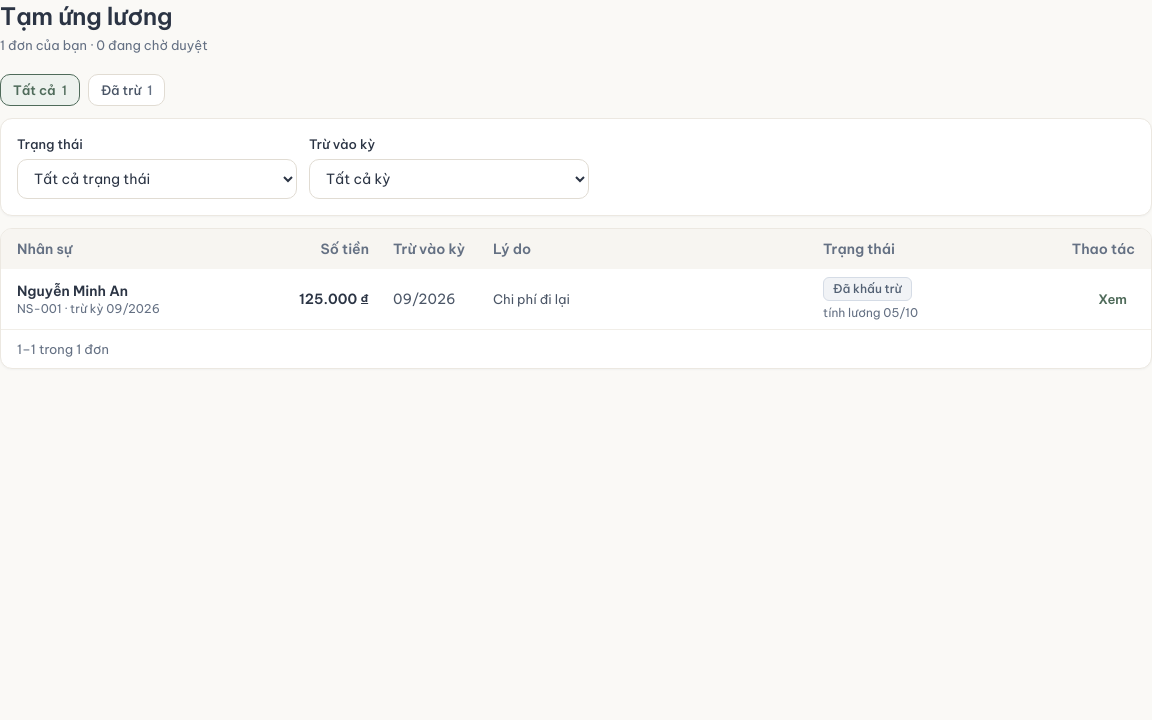
Test: Advances list redesign › opens a read-only detail with the recorded steps in Vietnam time
Click the button with aria-label "Xem chi tiết tạm ứng của Nguyễn Minh An" at [1113, 299], box top-left (1090, 283), bottom-right (1135, 315)
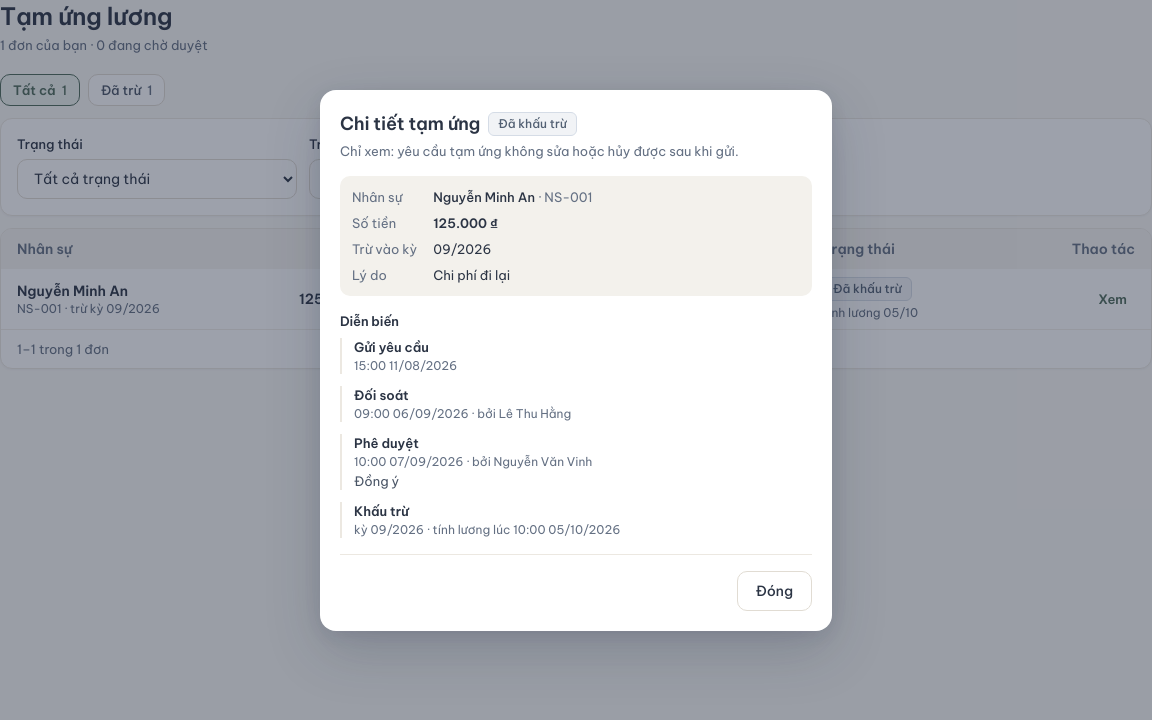
Expected: the dialog "Chi tiết tạm ứng" shows "Gửi yêu cầu", top-left (354, 338), bottom-right (429, 354)
Expected: the dialog "Chi tiết tạm ứng" shows "15:00 11/08/2026", top-left (354, 358), bottom-right (457, 372)
Expected: the dialog "Chi tiết tạm ứng" shows "09:00 06/09/2026 · bởi Lê Thu Hằng", top-left (354, 406), bottom-right (571, 420)
Click the button "Đóng" at [774, 590], box top-left (737, 570), bottom-right (812, 610)
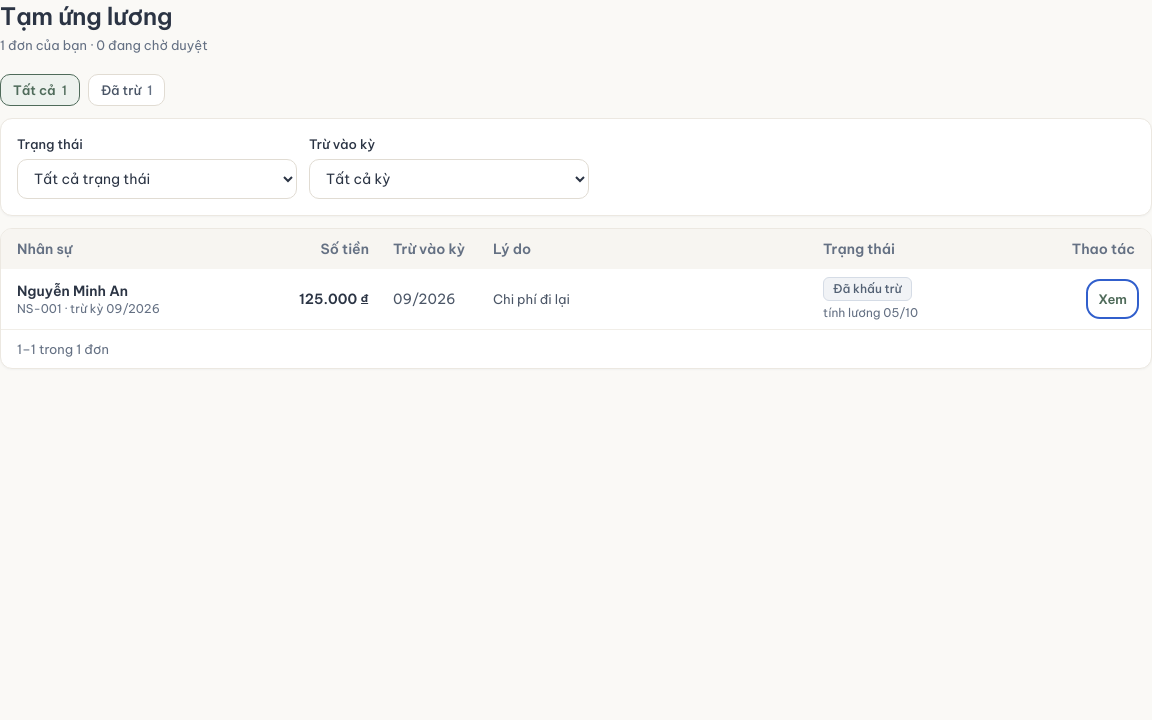
Expected: the dialog is gone
